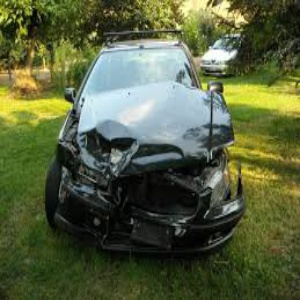bonnet: (90, 84, 232, 163)
bumper: (52, 184, 247, 255)
